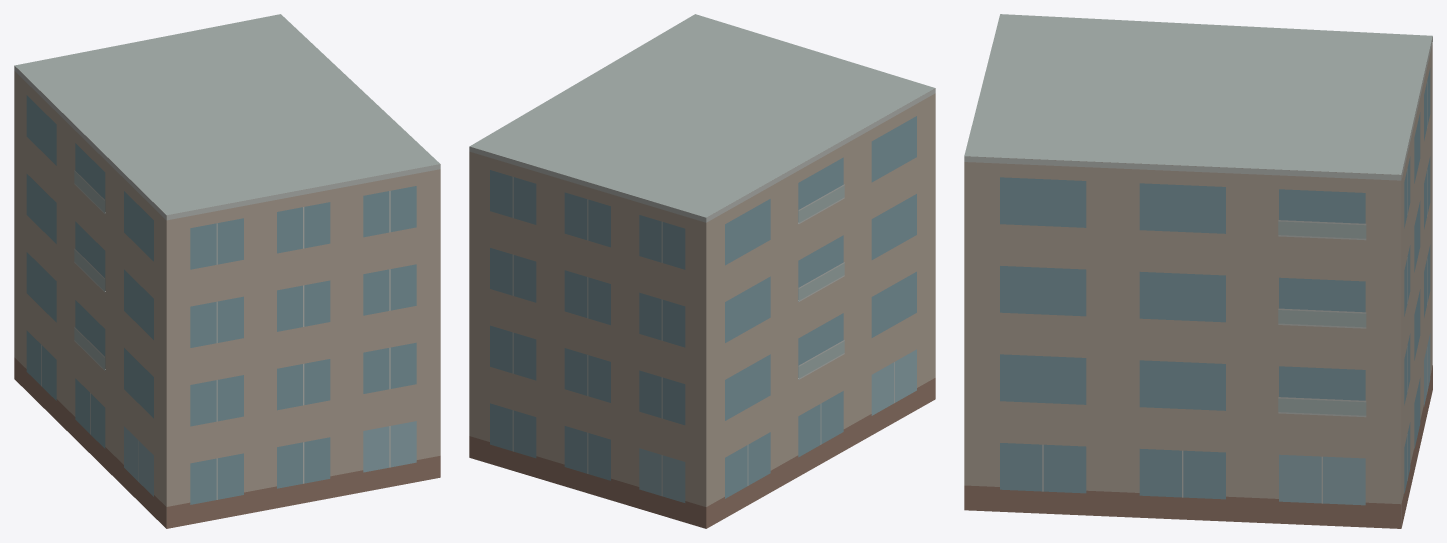
The model's file is survey-upis-32496357.glb.
3 views of the same model, side by side, from view 1: azimuth 30°, elevation 25°; view 2: azimuth 150°, elevation 25°; view 3: azimuth 270°, elevation 25° (orthographic). The views are drawn at different scales.
Parts seen in each view (by area): view 1: survey-upis-32496357.tmp; view 2: survey-upis-32496357.tmp; view 3: survey-upis-32496357.tmp.
Boxes of the visible parts, x1=… form: survey-upis-32496357.tmp: x1=14, y1=14, x2=440, y2=528; survey-upis-32496357.tmp: x1=469, y1=14, x2=935, y2=528; survey-upis-32496357.tmp: x1=964, y1=14, x2=1432, y2=528.
Bounding box in the file's own units: 14.53 × 14.9 × 17.89.
